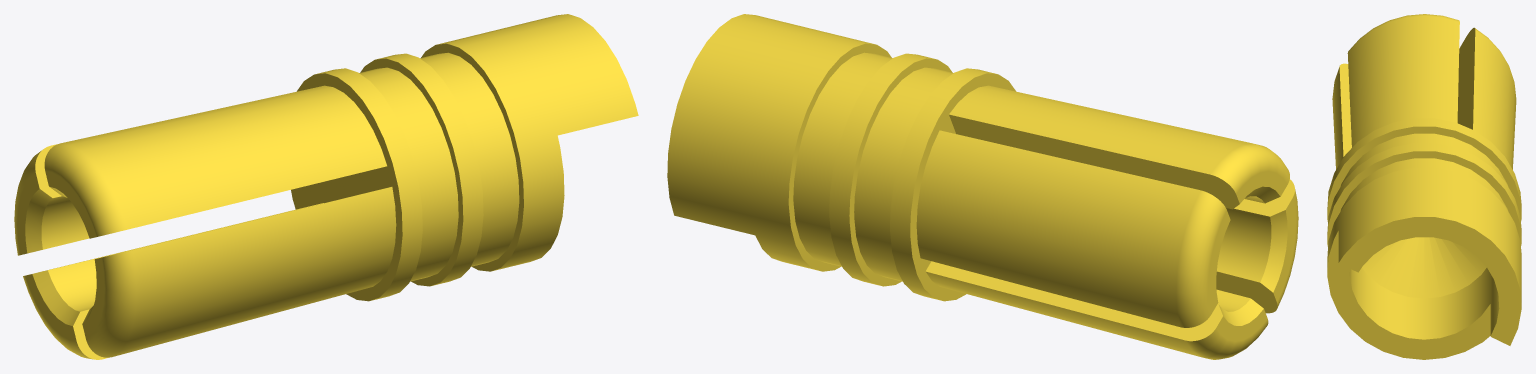
Rendered from REV_21_1652_P12_2__REV_21_1652_P12_2.gltf.
3 views of the same model, side by side, from view 1: azimuth 30°, elevation 25°; view 2: azimuth 150°, elevation 25°; view 3: azimuth 270°, elevation 25° (orthographic). The views are drawn at different scales.
Parts seen in each view (by area): view 1: mesh81885, mesh81899, mesh81868, mesh81874, mesh81870, mesh81872, mesh81876, mesh81877, mesh81886, mesh81900, mesh81898, mesh81869 (+12 smaller); view 2: mesh81878, mesh81868, mesh81885, mesh81870, mesh81874, mesh81888, mesh81876, mesh81872, mesh81879, mesh81894, mesh81892, mesh81905 (+13 smaller); view 3: mesh81885, mesh81868, mesh81863, mesh81864, mesh81862, mesh81867, mesh81878, mesh81875, mesh81871, mesh81872, mesh81876, mesh81881 (+5 smaller).
Boxes of the visible parts, <box> form: mesh81885: <box>61,85,386,229</box>; mesh81899: <box>113,187,396,356</box>; mesh81868: <box>437,14,638,271</box>; mesh81874: <box>359,67,458,281</box>; mesh81870: <box>420,52,519,266</box>; mesh81872: <box>376,53,483,285</box>; mesh81876: <box>316,68,422,300</box>; mesh81877: <box>291,73,402,301</box>; mesh81886: <box>44,143,127,236</box>; mesh81900: <box>86,250,136,357</box>; mesh81898: <box>48,203,323,311</box>; mesh81869: <box>421,43,523,271</box>; mesh81878: <box>916,130,1200,326</box>; mesh81868: <box>667,14,875,271</box>; mesh81885: <box>949,85,1251,174</box>; mesh81870: <box>793,52,892,266</box>; mesh81874: <box>854,67,953,281</box>; mesh81888: <box>949,114,1239,209</box>; mesh81876: <box>890,68,997,300</box>; mesh81872: <box>829,53,935,285</box>; mesh81879: <box>1176,190,1226,327</box>; mesh81894: <box>925,261,1222,341</box>; mesh81892: <box>925,271,1199,356</box>; mesh81905: <box>1217,208,1271,282</box>; mesh81885: <box>1347,16,1459,147</box>; mesh81868: <box>1327,167,1521,308</box>; mesh81863: <box>1349,268,1499,339</box>; mesh81864: <box>1339,217,1521,345</box>; mesh81862: <box>1362,237,1486,298</box>; mesh81867: <box>1327,231,1490,359</box>; mesh81878: <box>1473,30,1516,169</box>; mesh81875: <box>1327,126,1521,221</box>; mesh81871: <box>1327,151,1521,246</box>; mesh81872: <box>1327,143,1521,239</box>; mesh81876: <box>1327,118,1521,214</box>; mesh81881: <box>1457,27,1475,129</box>.
Size of the model in its own units: 0.013 by 0.00499 by 0.005.
